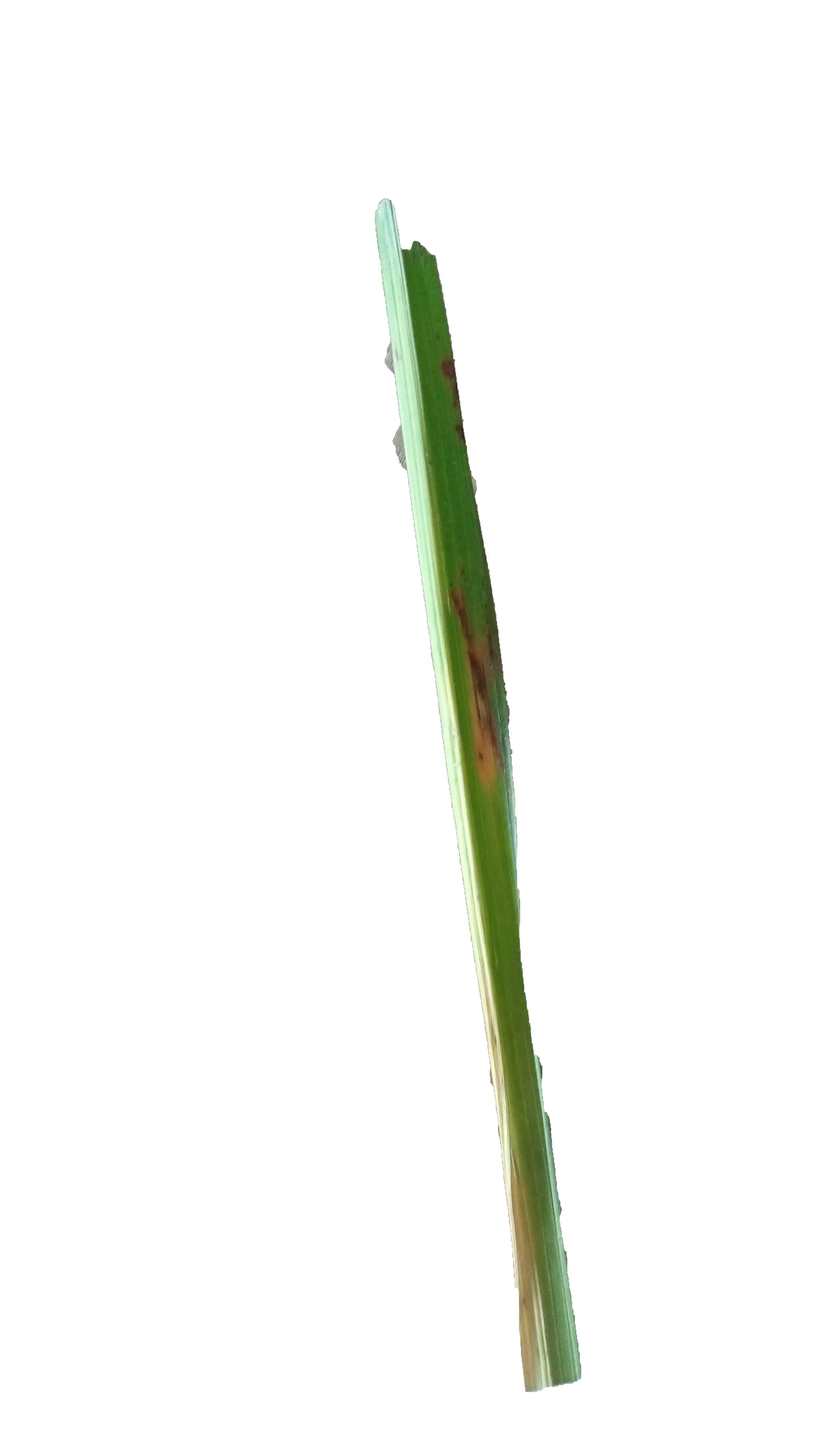Rice blast: (441, 567, 521, 834)
